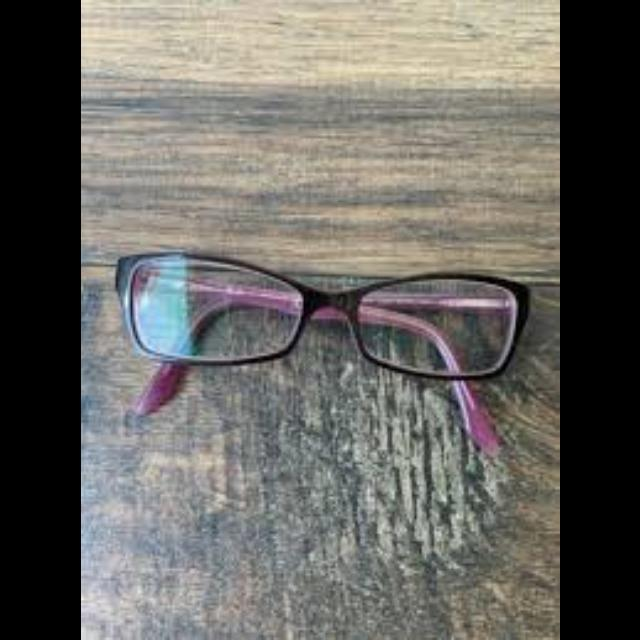glasses: (113, 250, 532, 458)
